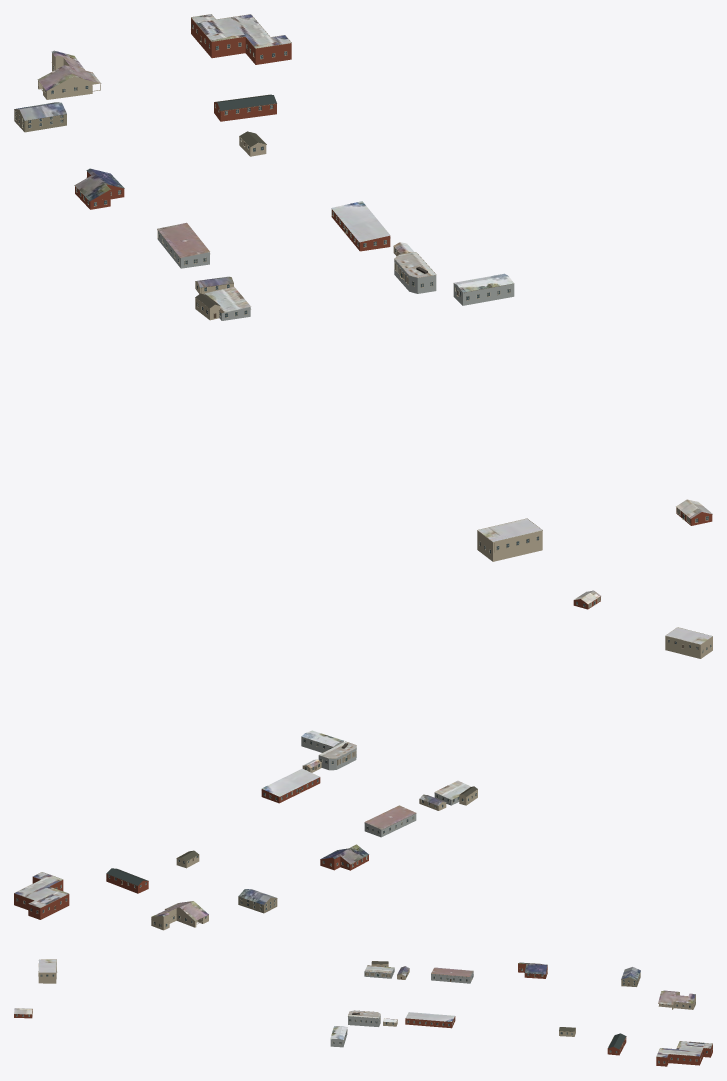
The picture shows the model from 3 angles, top to bottom: view 1: azimuth 30°, elevation 25°; view 2: azimuth 150°, elevation 25°; view 3: azimuth 270°, elevation 25°; orthographic projection. The views are drawn at different scales.
Visible parts, largest first — view 1: -1_2_590877178_0, -1_2_599046745_2, -1_2_599046744_1, -1_2_632302407_52; view 2: -1_2_590877178_0, -1_2_599046745_2, -1_2_599046744_1; view 3: -1_2_590877178_0, -1_2_599046744_1, -1_2_599046745_2, -1_2_632302407_52.
Part boxes in pixels (x1,y1,x2,y2): -1_2_590877178_0: (14,14,712,553); -1_2_599046745_2: (38,53,542,561); -1_2_599046744_1: (157,36,514,320); -1_2_632302407_52: (196,94,276,307); -1_2_590877178_0: (14,590,712,927); -1_2_599046745_2: (151,636,712,930); -1_2_599046744_1: (54,645,683,909); -1_2_590877178_0: (14,959,712,1066); -1_2_599046744_1: (330,968,629,1047); -1_2_599046745_2: (38,962,695,1036); -1_2_632302407_52: (371,961,626,1049).
Size of the model in its own units: 178 by 21.04 by 537.
15 materials, 1 textured.
